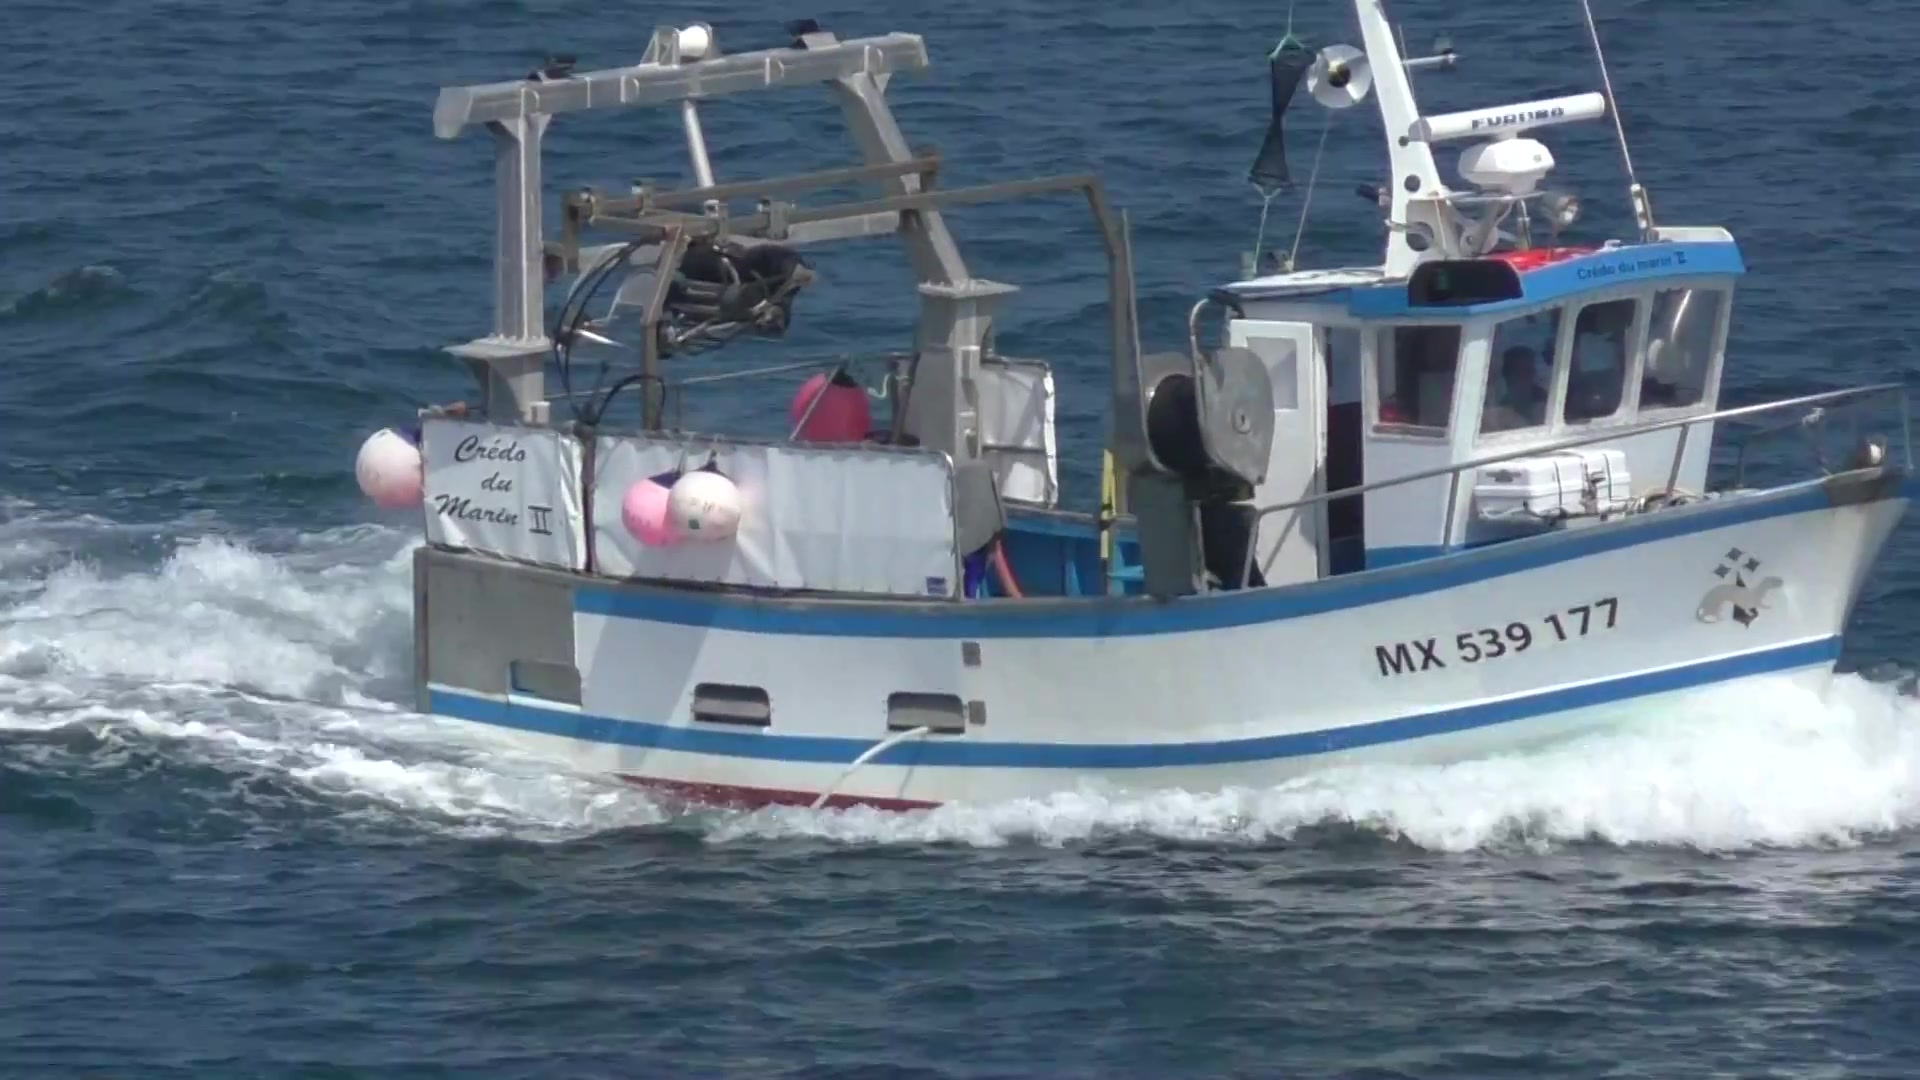CommonShip: (363, 146, 1858, 798)
